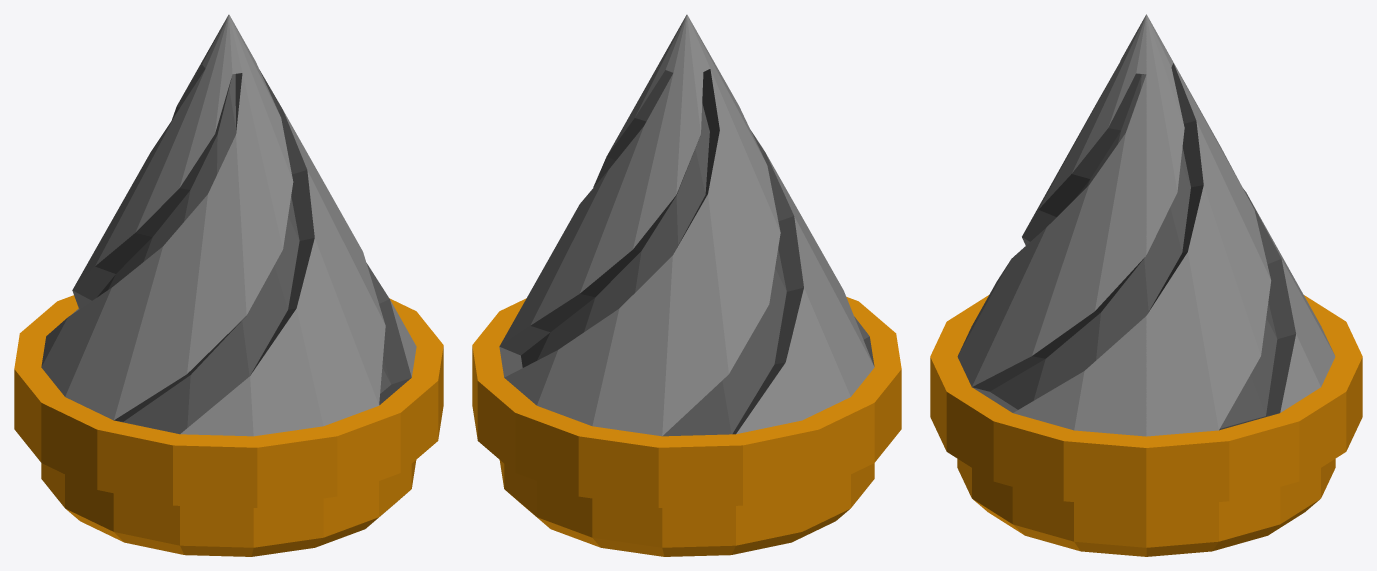
Rendered from drill.fbx.
3 renders of one model, left to right at view 1: azimuth 30°, elevation 25°; view 2: azimuth 150°, elevation 25°; view 3: azimuth 270°, elevation 25°, orthographic.
Visible parts, largest first — view 1: Cone; view 2: Cone; view 3: Cone.
Boxes of the visible parts, box(x1,y1,x2,y2) form: Cone: box(14, 14, 443, 556); Cone: box(472, 14, 901, 556); Cone: box(930, 14, 1362, 556).
Size of the model in its own units: 2.29 by 2.75 by 2.29.
